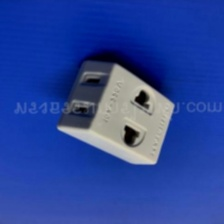three_eye_plug: (53, 55, 178, 167)
